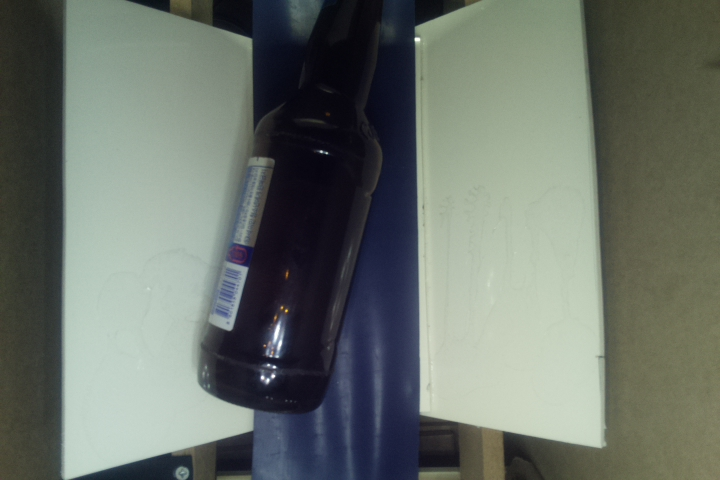makju: (195, 1, 399, 416)
